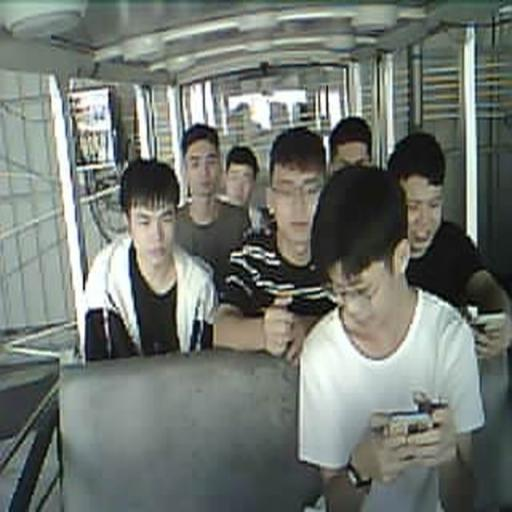persona: (296, 164, 486, 510), (213, 126, 338, 366), (386, 131, 512, 363), (82, 156, 219, 362), (172, 122, 252, 284), (328, 115, 373, 174), (224, 144, 260, 208)
